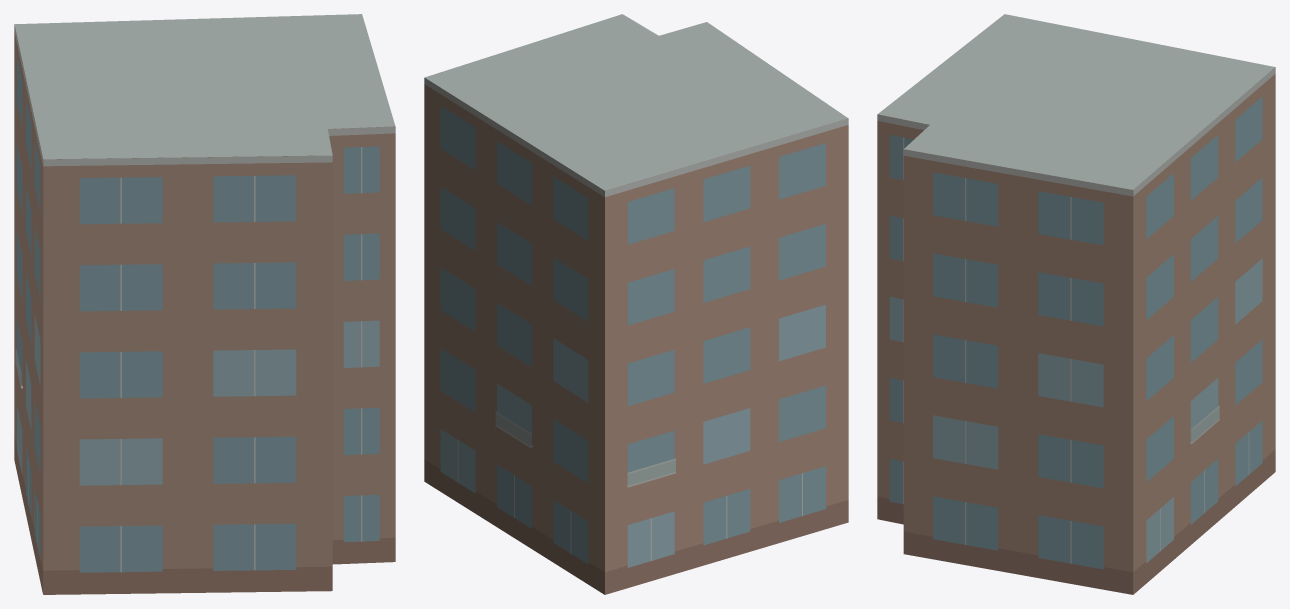
File: survey-upis-32943341.glb
3 renders of one model, left to right at view 1: azimuth 30°, elevation 25°; view 2: azimuth 150°, elevation 25°; view 3: azimuth 270°, elevation 25°, orthographic. The views are drawn at different scales.
Parts seen in each view (by area): view 1: survey-upis-32943341.tmp; view 2: survey-upis-32943341.tmp; view 3: survey-upis-32943341.tmp.
Boxes of the visible parts, x1=… form: survey-upis-32943341.tmp: x1=14, y1=14, x2=395, y2=594; survey-upis-32943341.tmp: x1=424, y1=14, x2=848, y2=594; survey-upis-32943341.tmp: x1=877, y1=14, x2=1275, y2=594.
Bounding box in the file's own units: 14.18 × 15.2 × 13.55.
